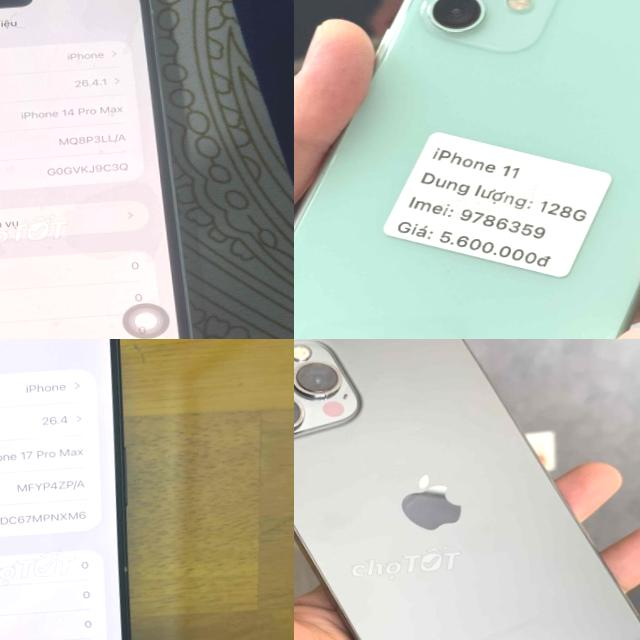gen_11: (294, 0, 640, 339)
gen_12_13: (294, 339, 640, 640)
gen_14: (0, 0, 228, 339)
gen_17: (0, 339, 161, 640)
